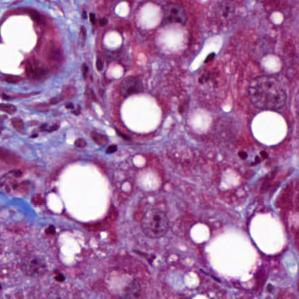inflammation: (81, 3, 111, 30), (235, 147, 272, 168)
